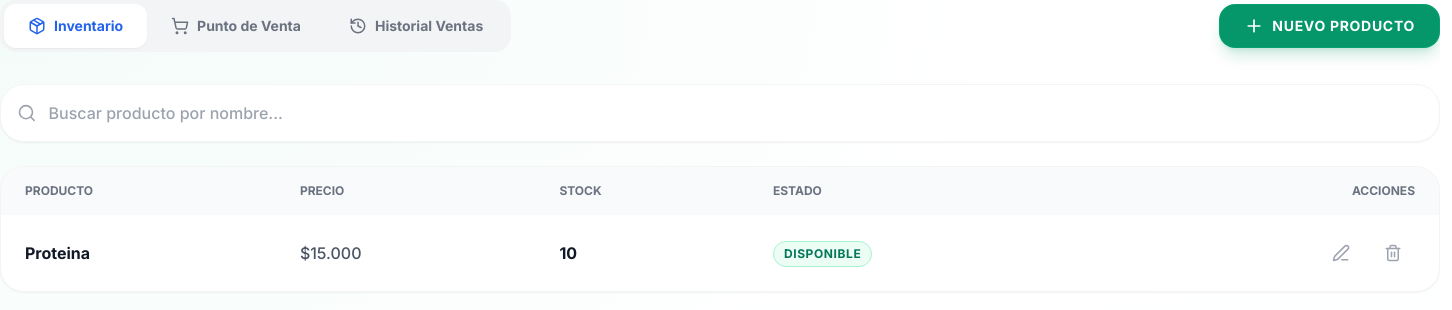
Test: ProductsPage - fecha mostrada en el historial de ventas (spec 0008) › AC-0008-13: una venta del 24/09 se muestra como 24/09/2026
Click the button "Historial Ventas" at (416, 26), box top-left (325, 4), bottom-right (507, 48)
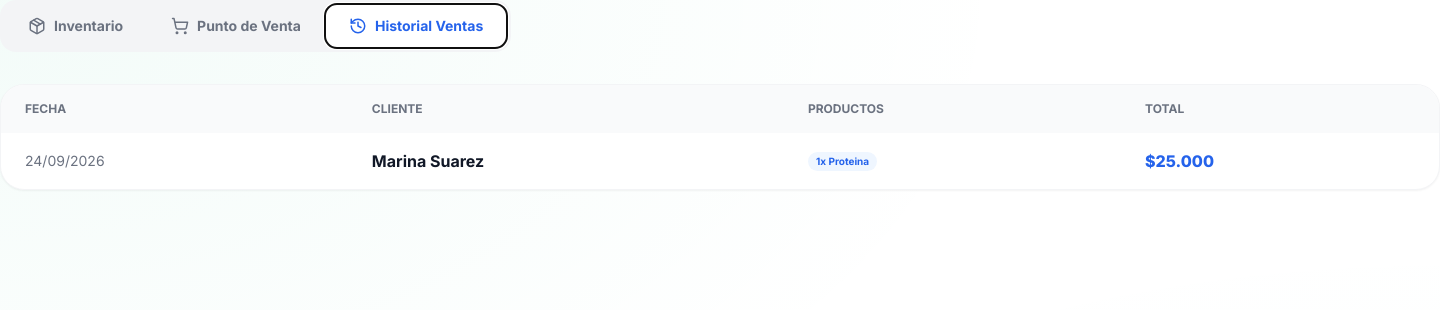
Expected: the text "Marina Suarez" shows "24/09/2026", top-left (25, 152), bottom-right (105, 169)
